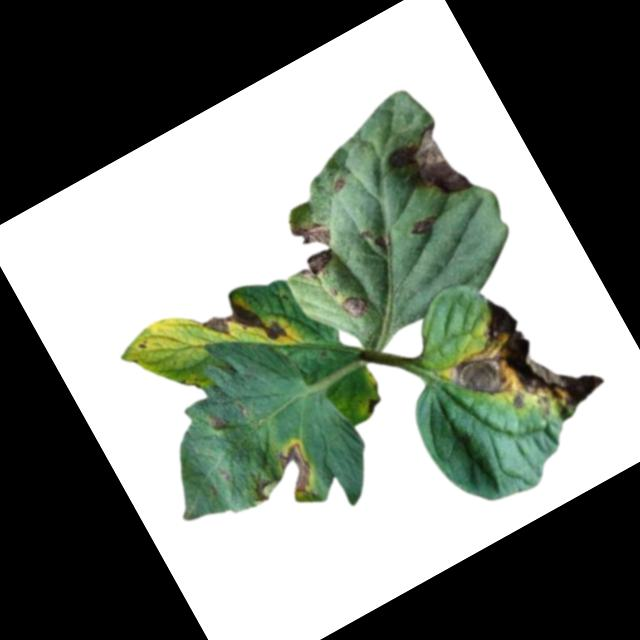Early_blight: (430, 270, 612, 454), (381, 119, 477, 220), (198, 280, 292, 370), (236, 437, 322, 516), (272, 207, 348, 287), (336, 290, 373, 324), (409, 211, 442, 240), (205, 409, 231, 436), (361, 395, 384, 417), (373, 231, 394, 252), (330, 175, 351, 195)
